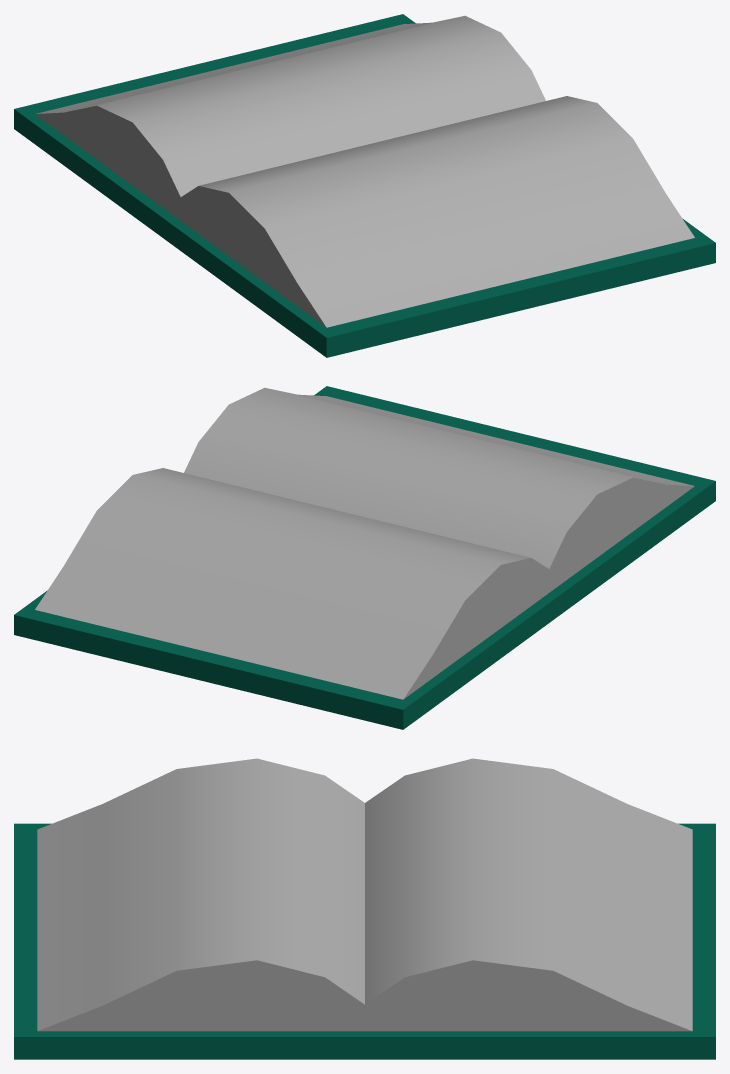
Rendered from GB_145_book.glb.
3 renders of one model, top to bottom at view 1: azimuth 30°, elevation 25°; view 2: azimuth 150°, elevation 25°; view 3: azimuth 270°, elevation 25°, orthographic. The views are drawn at different scales.
Visible parts, largest first — view 1: Pages, Cover; view 2: Pages, Cover; view 3: Pages, Cover.
Boxes of the visible parts, x1,y1,x2,y2 form: Pages: (35, 15, 694, 327); Cover: (14, 14, 715, 357); Pages: (35, 387, 694, 699); Cover: (14, 386, 715, 729); Pages: (37, 758, 692, 1031); Cover: (14, 823, 715, 1059).
Bounding box in the file's own units: 0.5031 × 0.1029 × 0.7002.
